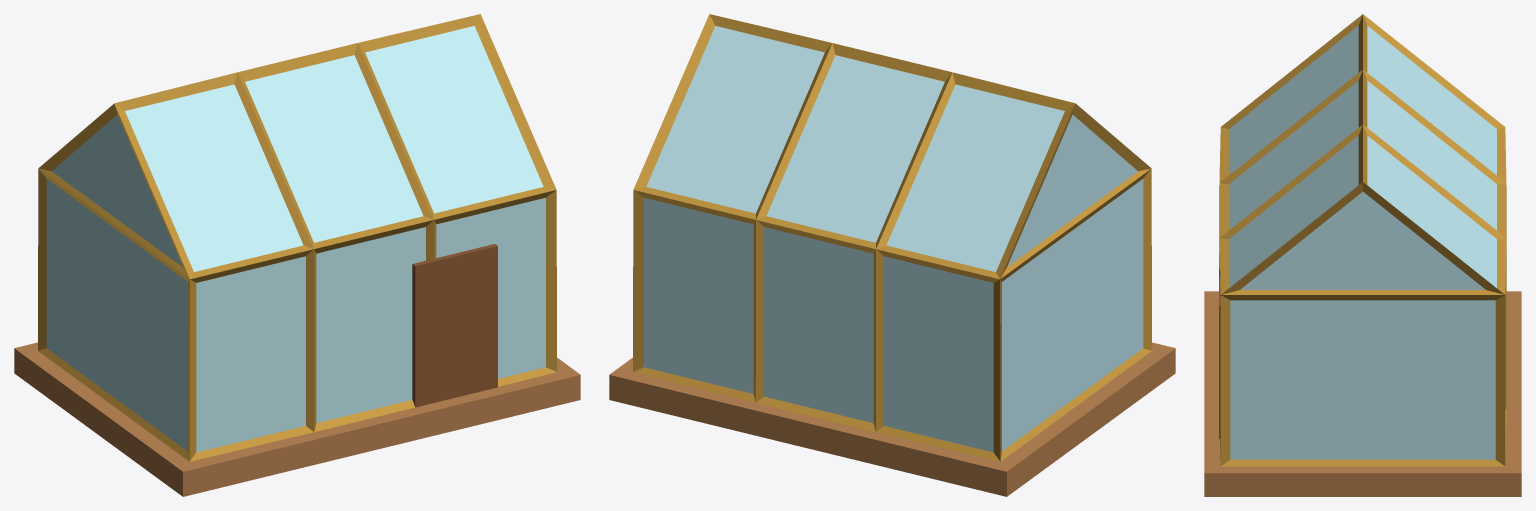
The model's file is greenhouse.glb.
3 renders of one model, left to right at view 1: azimuth 30°, elevation 25°; view 2: azimuth 150°, elevation 25°; view 3: azimuth 270°, elevation 25°, orthographic. The views are drawn at different scales.
Parts seen in each view (by area): view 1: glass, greenhouse; view 2: glass, greenhouse; view 3: glass, greenhouse.
Boxes of the visible parts, x1,y1,x2,y2 form: glass: (46, 26, 545, 452); greenhouse: (14, 14, 580, 496); glass: (644, 26, 1143, 452); greenhouse: (609, 14, 1175, 496); glass: (1229, 26, 1496, 459); greenhouse: (1204, 14, 1521, 496).
Size of the model in its own units: 2.65 by 2.1 by 1.95.
